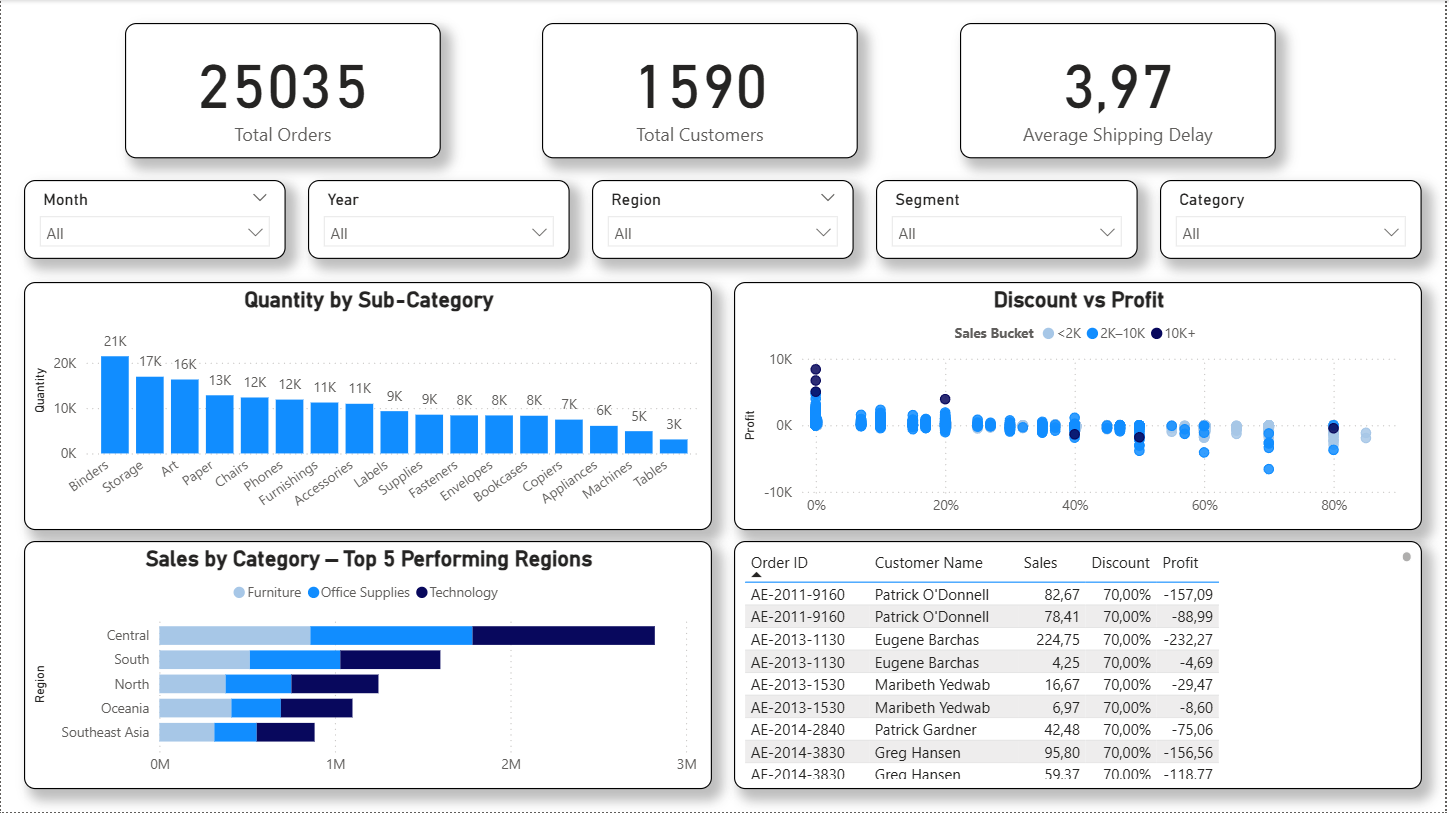

This screenshot's page, from the dashboard's own definition file:
{"tool":"powerbi","page":{"name":"Customer & Order Behavior","canvas":[1280,720],"ordinal":1},"visuals":[{"type":"card","fields":{"Values":["Global_Superstore_Clean.Order ID"]},"box":[110,20,280.1,120],"z":0},{"type":"card","fields":{"Values":["Global_Superstore_Clean.ShippinhDelay"]},"box":[850,20,280.1,120],"z":1000},{"type":"card","fields":{"Values":["Global_Superstore_Clean.Customer ID"]},"box":[480,20,280.1,120],"z":2000},{"type":"slicer","fields":{"Values":["Calendar.MonthNo"]},"box":[20,160,232,70],"z":3000},{"type":"slicer","fields":{"Values":["Global_Superstore_Clean.Region"]},"box":[524,160,232,70],"z":4000},{"type":"slicer","fields":{"Values":["Global_Superstore_Clean.Segment"]},"box":[776,160,232,70],"z":5000},{"type":"slicer","fields":{"Values":["Global_Superstore_Clean.Category"]},"box":[1028,160,232,70],"z":6000},{"type":"slicer","fields":{"Values":["Calendar.YearNo"]},"box":[272,160,232,70],"z":7000},{"type":"columnChart","title":"Quantity by Sub-Category","fields":{"Category":["Global_Superstore_Clean.Sub-Category"],"Y":["Global_Superstore_Clean.Quantity"]},"box":[20,250,610,220],"z":8000},{"type":"scatterChart","title":"Discount vs Profit","fields":{"X":["Global_Superstore_Clean.Discount"],"Y":["Global_Superstore_Clean.Profit"],"Series":["Global_Superstore_Clean.Sales Bucket"]},"box":[650,250,610,220],"z":9000},{"type":"barChart","title":"Sales by Category – Top 5 Performing Regions","fields":{"Category":["Global_Superstore_Clean.Region"],"Y":["Global_Superstore_Clean.Sales"],"Series":["Global_Superstore_Clean.Category"]},"box":[20,480,610,220],"z":10000},{"type":"tableEx","title":"Quantity by Sub-Category","fields":{"Values":["Global_Superstore_Clean.Order ID","Global_Superstore_Clean.Customer Name","Global_Superstore_Clean.Sales","Global_Superstore_Clean.Discount","Global_Superstore_Clean.Profit"]},"box":[650,480,610,220],"z":11000}]}

Visuals, with their boxes in screenshot pixels (x1, y1, x2, y2), scaled from the page's 1280x720 canvas onto the 1449x813 screenshot:
card - Global_Superstore_Clean.Order ID: 125 23 442 158
card - Global_Superstore_Clean.ShippinhDelay: 962 23 1279 158
card - Global_Superstore_Clean.Customer ID: 543 23 860 158
slicer - Calendar.MonthNo: 23 181 285 260
slicer - Global_Superstore_Clean.Region: 593 181 856 260
slicer - Global_Superstore_Clean.Segment: 878 181 1141 260
slicer - Global_Superstore_Clean.Category: 1164 181 1426 260
slicer - Calendar.YearNo: 308 181 571 260
"Quantity by Sub-Category" columnChart: 23 282 713 531
"Discount vs Profit" scatterChart: 736 282 1426 531
"Sales by Category – Top 5 Performing Regions" barChart: 23 542 713 790
"Quantity by Sub-Category" tableEx: 736 542 1426 790
